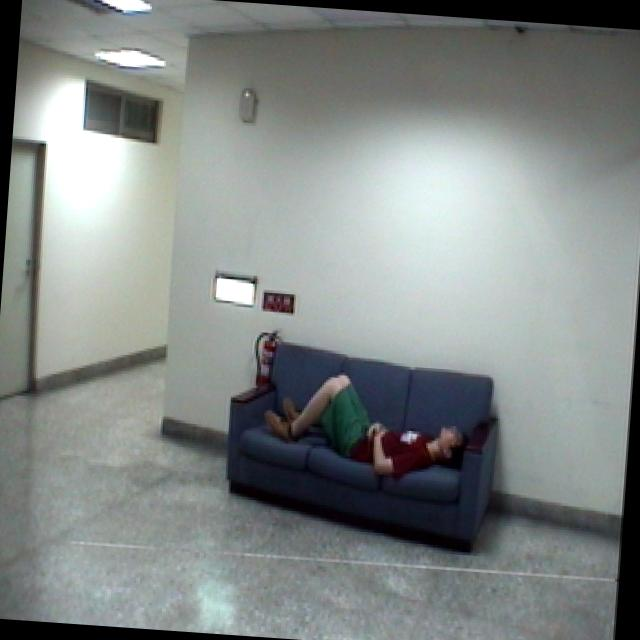lie: (258, 362, 471, 484)
